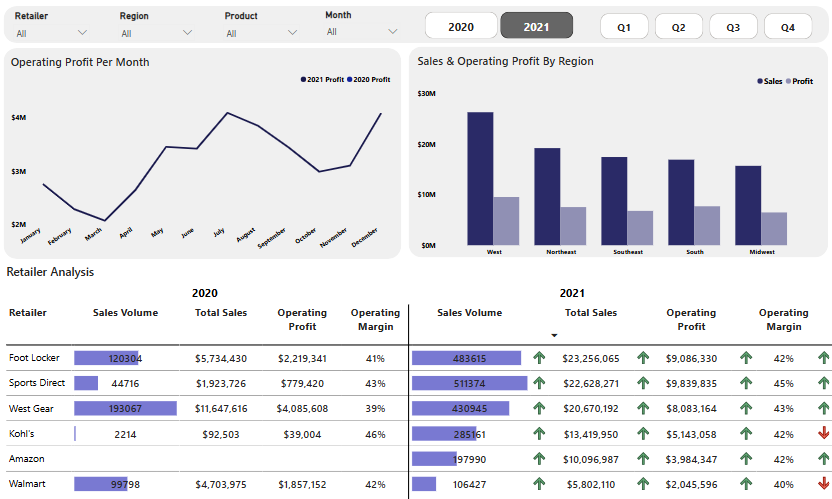

This screenshot's page, from the dashboard's own definition file:
{"tool":"powerbi","page":{"name":"2","canvas":[1600,960],"ordinal":1},"visuals":[{"type":"shape","box":[13.3,6.6,1572.6,70.7],"z":0},{"type":"shape","box":[785.7,83.5,799.6,401.8],"z":1000},{"type":"shape","box":[13.9,85.5,757.8,401.8],"z":2000},{"type":"pivotTable","title":"Retailer Analysis","fields":{"Rows":["Retailers.retailer"],"Values":["Sales.2020 Units Sold","Sales.2020 Total Sales","Sales.2020 op profit","Sales.2020 Op Margin","Sales.2021 Units Sold","Sales.2020 Units Sold minus 2021 Units Sold","Sales.2021 Total Sales","Sales.2020 Total Sales minus 2021 Total Sales","Sales.2021 op profit","Sales.2020 op profit minus 2021 op profit","Sales.2021 Op Margin","Sales.2020 Op Margin minus 2021 Op Margin"]},"box":[13.3,485.9,1585.8,474.9],"z":3000},{"type":"advancedSlicerVisual","fields":{"Values":["Sales.invoice_date.Variation.Date Hierarchy.Year"]},"box":[810.6,11,293.7,61.8],"z":4000},{"type":"advancedSlicerVisual","fields":{"Values":["Sales.Short_Quarter"]},"box":[1145.7,13.9,415.7,59.7],"z":5000},{"type":"textbox","box":[85.5,531.1,1348.5,39.8],"z":6000},{"type":"lineChart","title":"Operating Profit Per Month","fields":{"Category":["Sales.invoice_date.Variation.Date Hierarchy.Month"],"Y":["Sales.2021 Op. Profit","Sales.2020 Op. Profit"]},"box":[21.9,91.5,737.9,395.8],"z":7000},{"type":"clusteredColumnChart","title":"Sales & Operating Profit By Region","fields":{"Category":["Region.region"],"Y":["Sum(Sales.total_sales)","Sum(Sales.operating_profit)"]},"box":[786.3,79.5,775.2,406.4],"z":8000},{"type":"slicer","fields":{"Values":["Region.region"]},"box":[221.4,7.7,165.6,64.1],"z":9000},{"type":"slicer","fields":{"Values":["Products.product"]},"box":[422.4,7.7,165.6,64.1],"z":10000},{"type":"slicer","fields":{"Values":["Sales.invoice_date.Variation.Date Hierarchy.Month"]},"box":[614.3,7,165,63.7],"z":11000},{"type":"slicer","fields":{"Values":["Retailers.retailer"]},"box":[22.7,7.7,165,64.1],"z":12000},{"type":"shape","box":[582,574,406,374],"z":13000}]}

Visuals, with their boxes in screenshot pixels (x1, y1, x2, y2), scaled from the page's 1600x960 canvas onto the 832x499 screenshot:
shape: select_region(7, 3, 825, 40)
shape: select_region(409, 43, 824, 252)
shape: select_region(7, 44, 401, 253)
"Retailer Analysis" pivotTable: select_region(7, 253, 831, 498)
advancedSlicerVisual - Sales.invoice_date.Variation.Date Hierarchy.Year: select_region(422, 6, 574, 38)
advancedSlicerVisual - Sales.Short_Quarter: select_region(596, 7, 812, 38)
textbox: select_region(44, 276, 746, 297)
"Operating Profit Per Month" lineChart: select_region(11, 48, 395, 253)
"Sales & Operating Profit By Region" clusteredColumnChart: select_region(409, 41, 812, 253)
slicer - Region.region: select_region(115, 4, 201, 37)
slicer - Products.product: select_region(220, 4, 306, 37)
slicer - Sales.invoice_date.Variation.Date Hierarchy.Month: select_region(319, 4, 405, 37)
slicer - Retailers.retailer: select_region(12, 4, 98, 37)
shape: select_region(303, 298, 514, 493)
